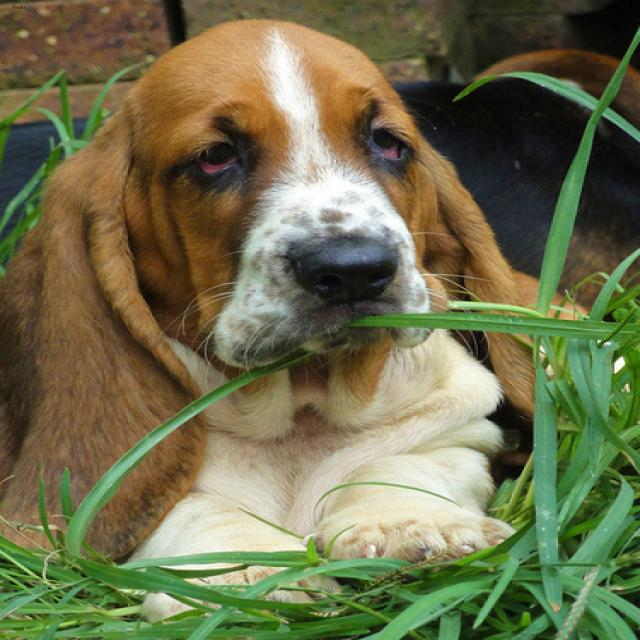dog-basset_hound: (2, 14, 637, 634)
